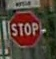stop: (7, 10, 42, 47)
